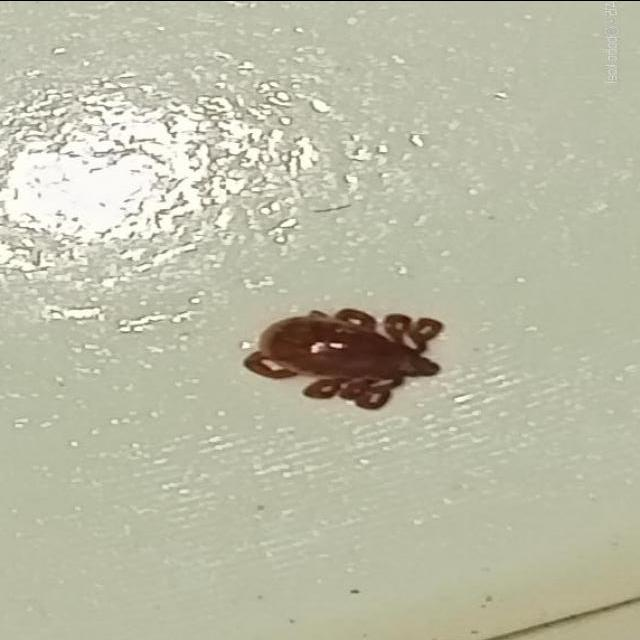Rhipicephalus Sanguineus-M: (245, 308, 444, 409)
